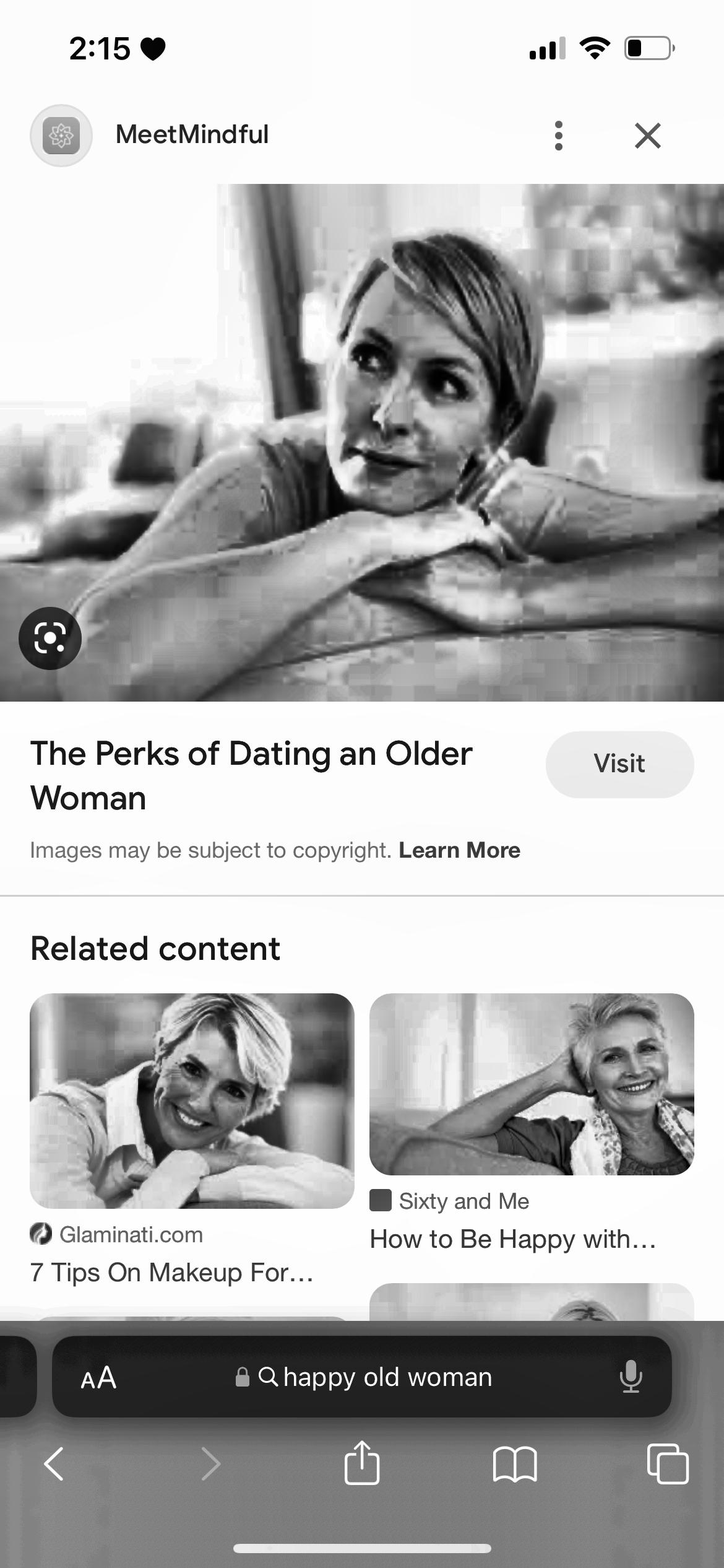happy: (313, 294, 482, 514)
